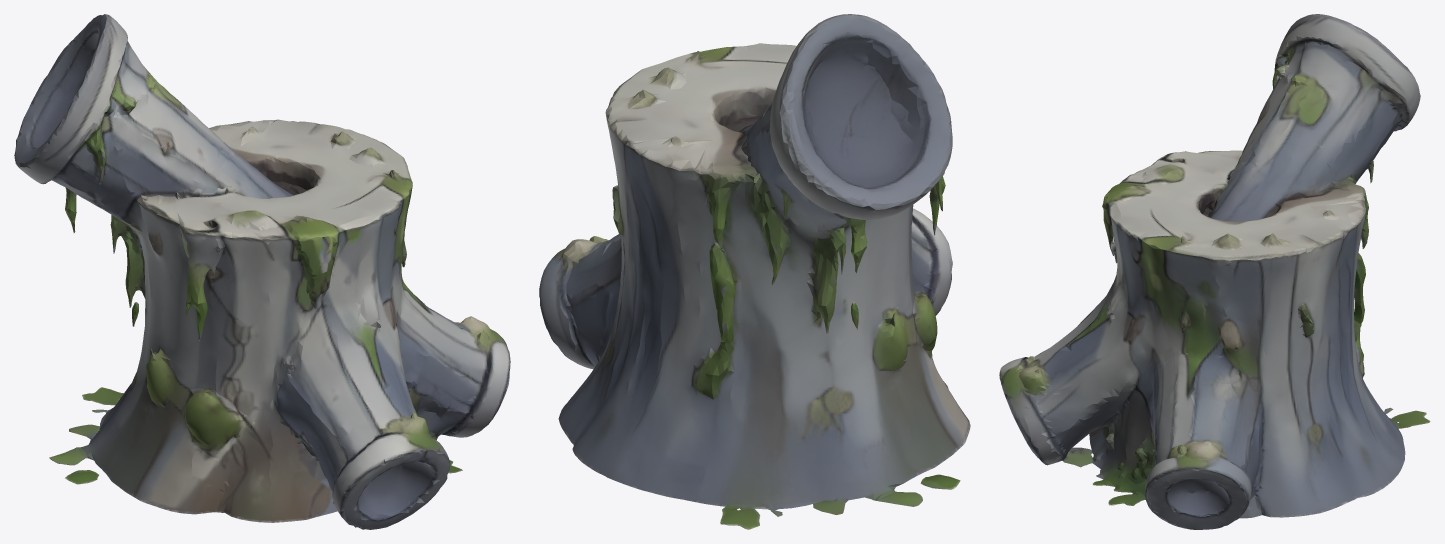
Rendered from Atlantis_ColumnBroken.glb.
3 renders of one model, left to right at view 1: azimuth 30°, elevation 25°; view 2: azimuth 150°, elevation 25°; view 3: azimuth 270°, elevation 25°, orthographic. The views are drawn at different scales.
Parts seen in each view (by area): view 1: Atlantis_ColumnBroken; view 2: Atlantis_ColumnBroken; view 3: Atlantis_ColumnBroken.
Part boxes in pixels (x1,y1,x2,y2): Atlantis_ColumnBroken: [14, 14, 510, 529]; Atlantis_ColumnBroken: [539, 14, 970, 529]; Atlantis_ColumnBroken: [999, 14, 1430, 529].
Bounding box in the file's own units: 1.15 × 1.15 × 1.15.
1 material, 1 textured.
